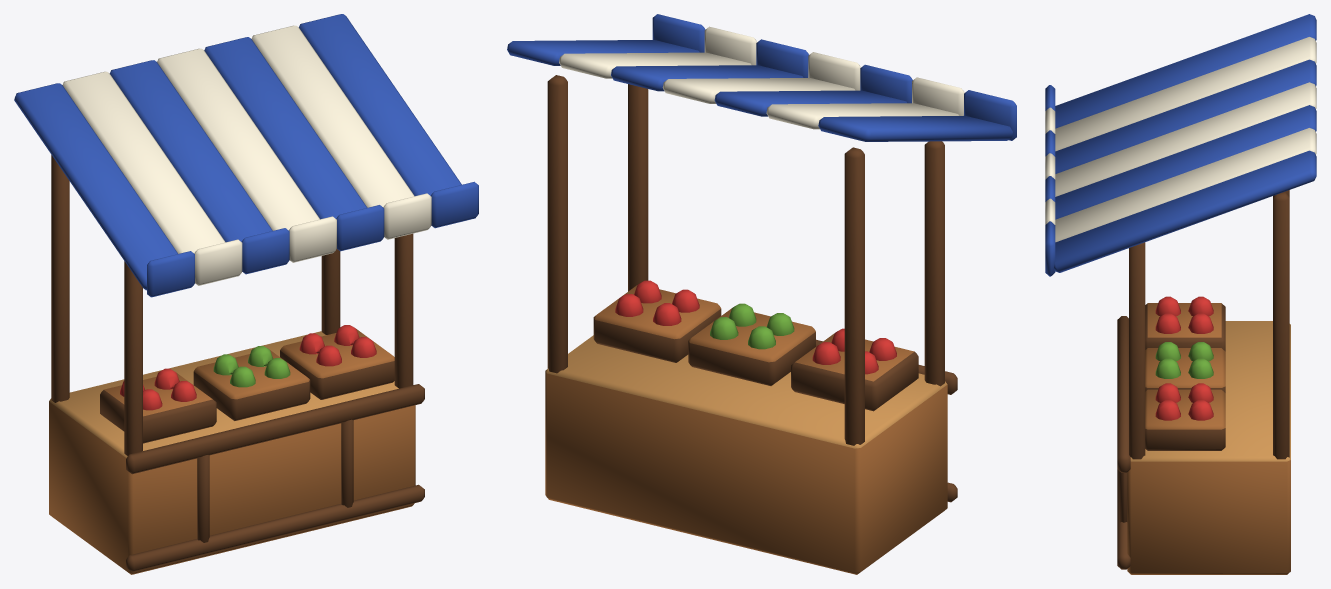
File: P_MedMarketStall.fbx
3 views of the same model, side by side, from view 1: azimuth 30°, elevation 25°; view 2: azimuth 150°, elevation 25°; view 3: azimuth 270°, elevation 25° (orthographic). The views are drawn at different scales.
Parts seen in each view (by area): view 1: M_MarketStall; view 2: M_MarketStall; view 3: M_MarketStall.
Boxes of the visible parts, x1=… form: M_MarketStall: x1=14, y1=14, x2=478, y2=574; M_MarketStall: x1=507, y1=14, x2=1016, y2=574; M_MarketStall: x1=1045, y1=14, x2=1316, y2=574.
Bounding box in the file's own units: 2.3 × 2.8 × 1.66.
1 material, 1 textured.
